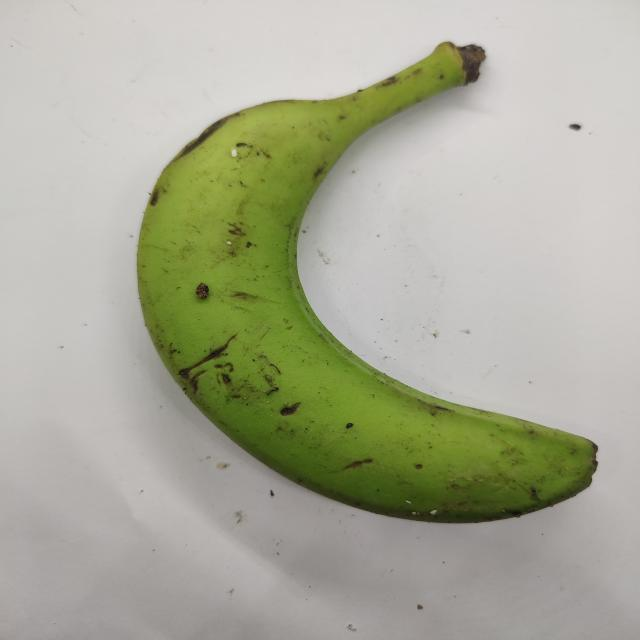Raw: (115, 29, 627, 533)
